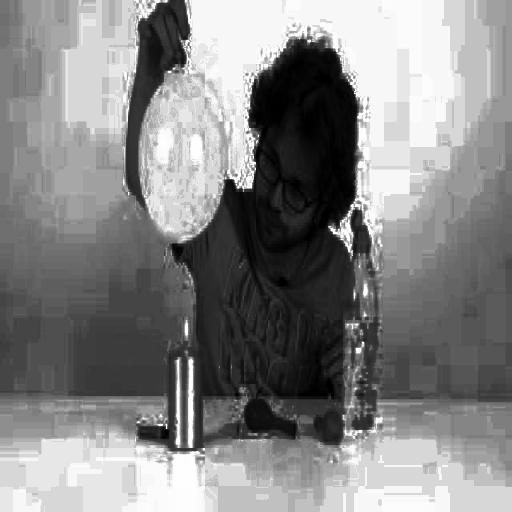balloon: (138, 67, 227, 250)
